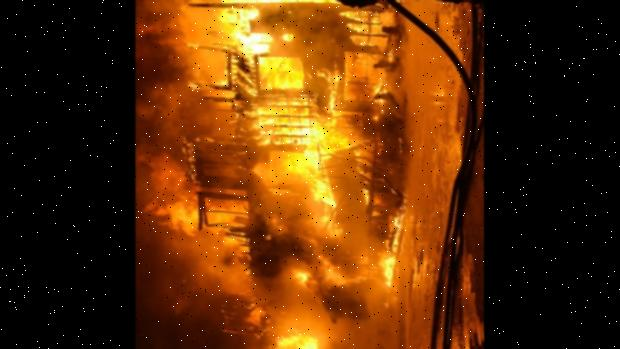fire: (209, 294, 315, 349)
